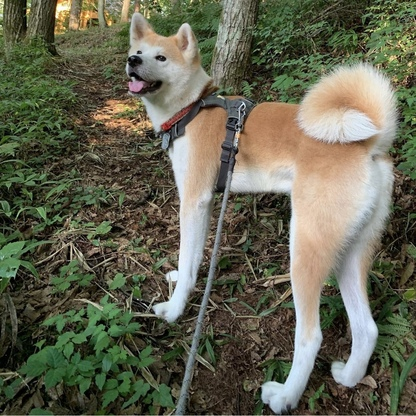akita: (115, 3, 403, 416)
